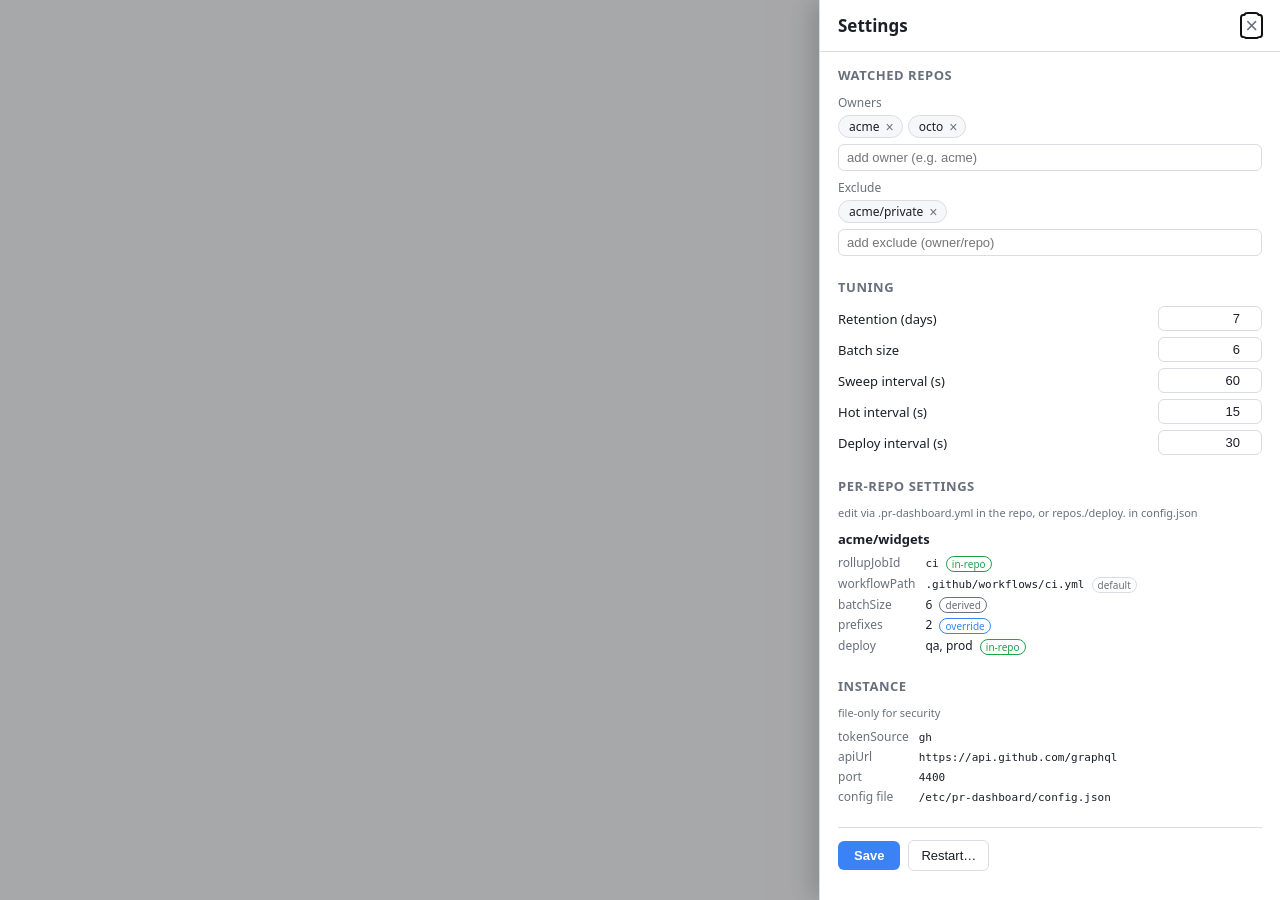
Test case: SettingsPanel › shows the applied toast line on save success
This screenshot has width=1280, height=900.
Expected: the text "acme" is shown, [849,118,880,135]
Click the button "Save" at (869,855), box [838,841,900,870]
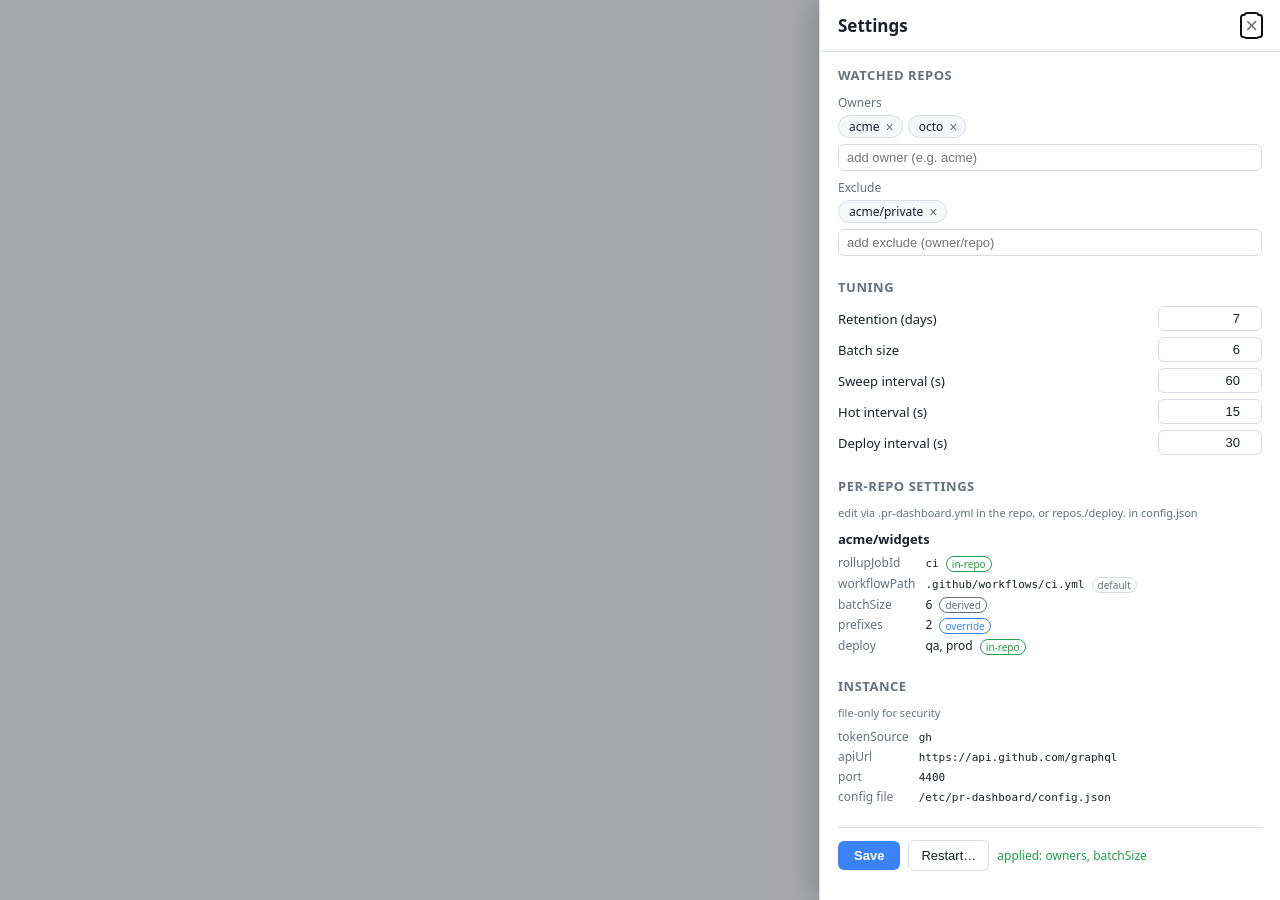
Expected: the text "applied: owners, batchSize" is shown, [997,847,1147,864]
